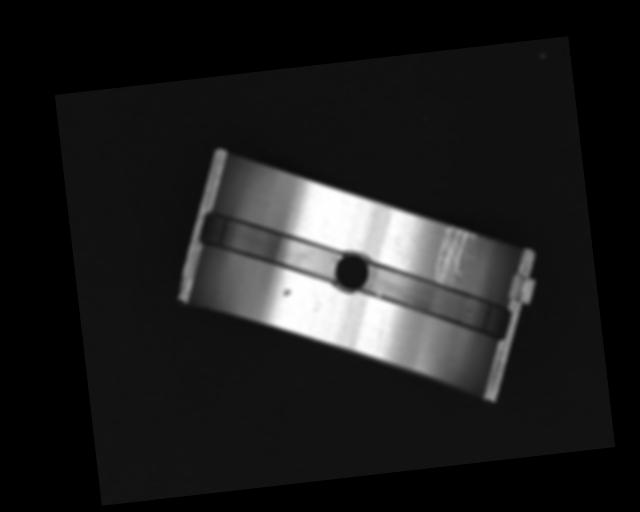bruise: (280, 287, 291, 298)
gap: (358, 251, 510, 354), (199, 199, 342, 291)
hole: (332, 251, 371, 294)
nick: (373, 318, 388, 354)
scratch: (429, 223, 481, 288)
